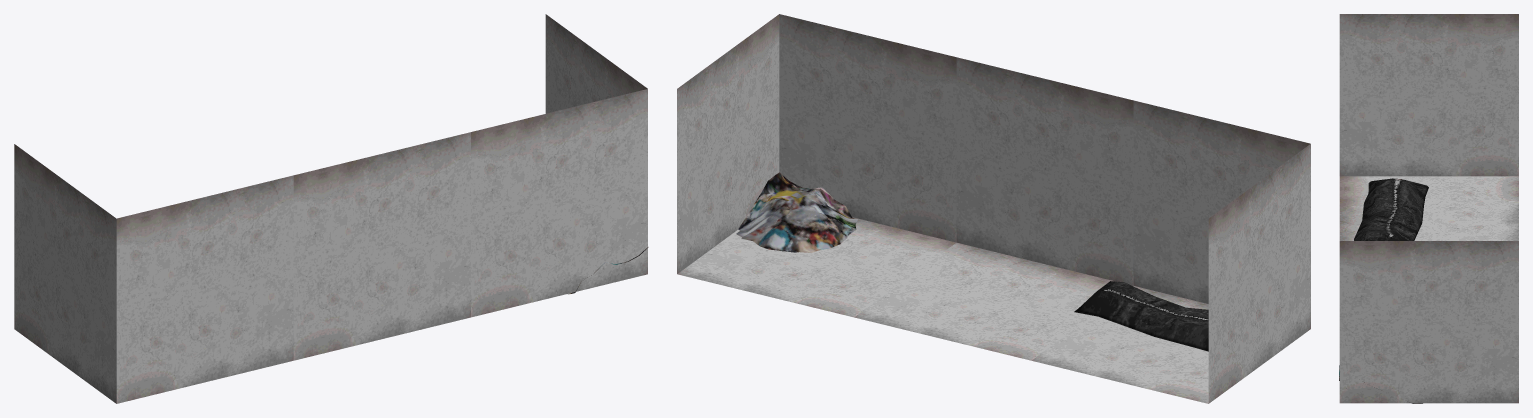
The picture shows the model from 3 angles, left to right: view 1: azimuth 30°, elevation 25°; view 2: azimuth 150°, elevation 25°; view 3: azimuth 270°, elevation 25°; orthographic projection. The views are drawn at different scales.
Visible parts, largest first — view 1: NormalWall.122; view 2: NormalWall.122; view 3: NormalWall.122.
Part boxes in pixels (<box>): NormalWall.122: <box>14,14,648,403</box>; NormalWall.122: <box>677,14,1310,403</box>; NormalWall.122: <box>1339,14,1518,403</box>.
Bounding box in the file's own units: 1201 × 401 × 402.
